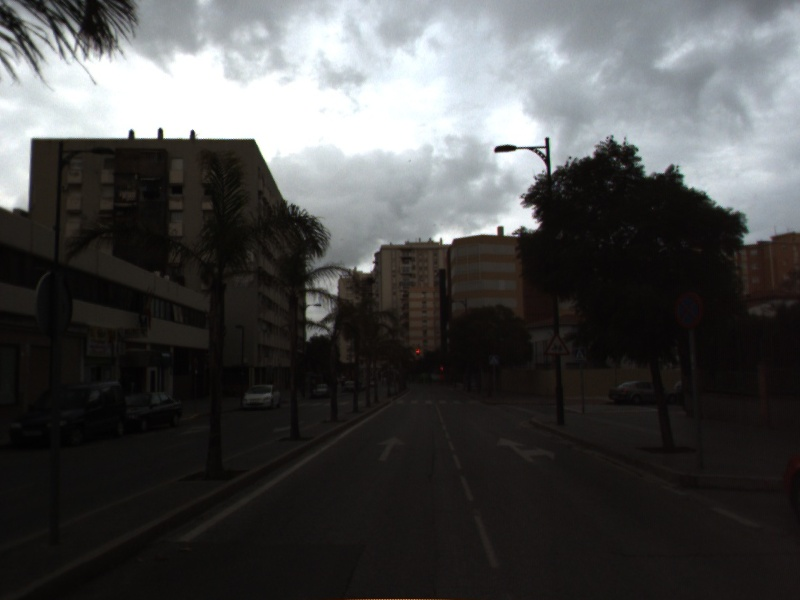STRAIGHT: (375, 433, 409, 463)
STRAIGHT_RIGHT: (494, 435, 556, 465)
